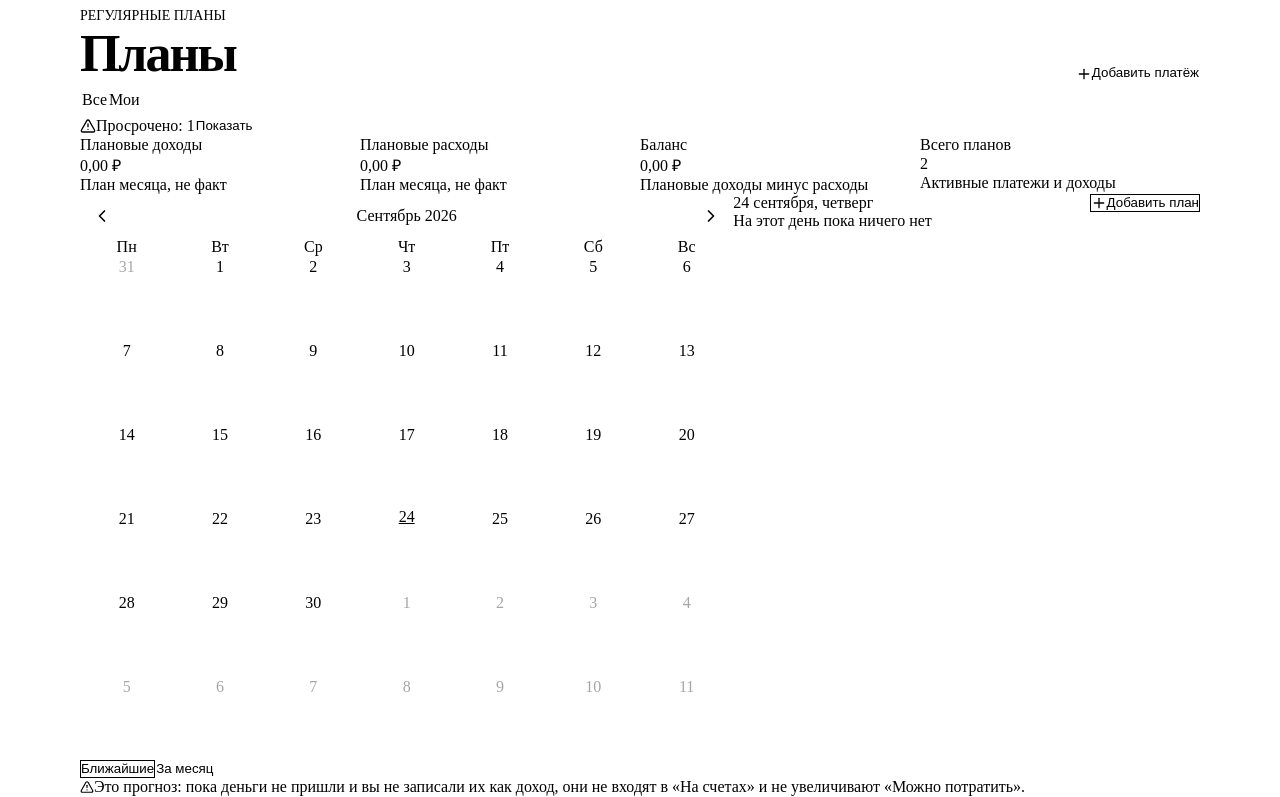
Test: plans page › drops a stale month response after a quick double click
Click the button with test id "calendar-next-month". click: (711, 216)
box: [689,194,733,238]
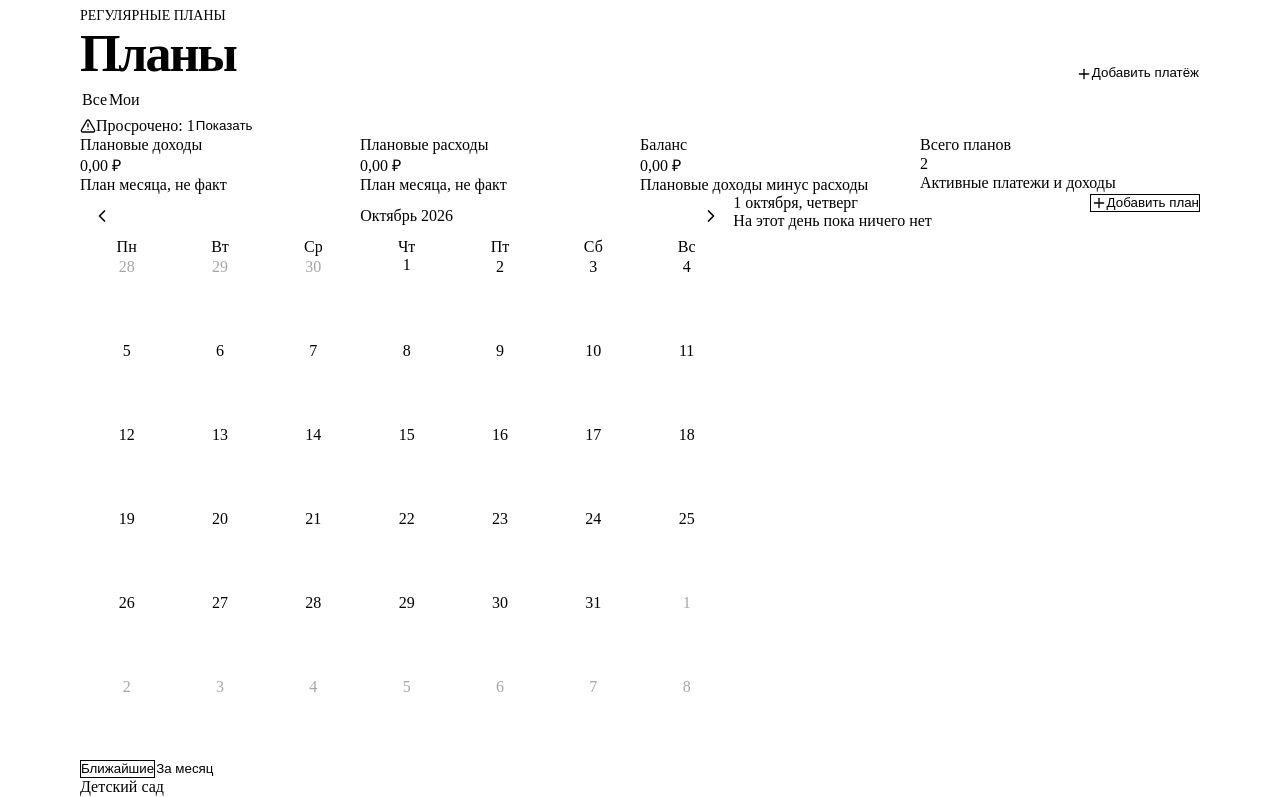
Click the button with test id "calendar-next-month". click: (711, 216)
box: [689,194,733,238]
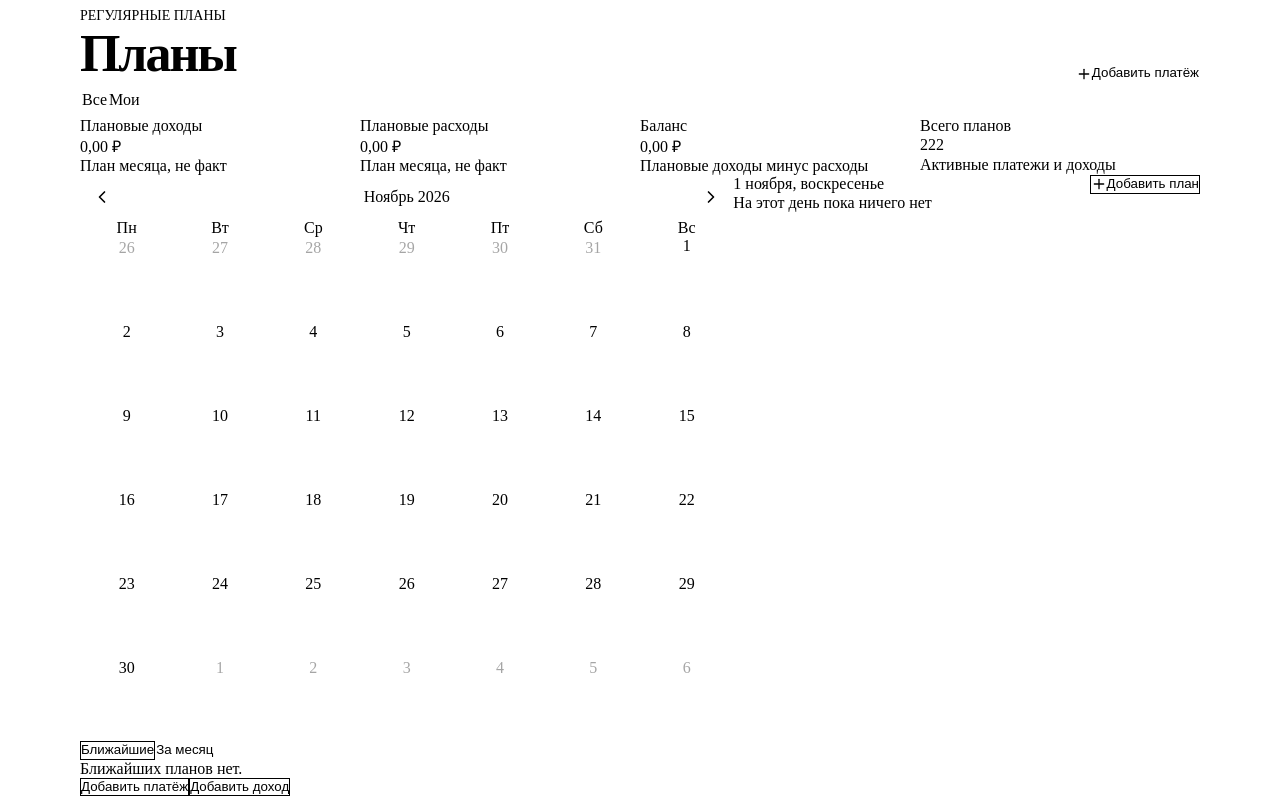
Now the element with test id "kpi-total-plans" shows "222", box [920,136,944,153]
